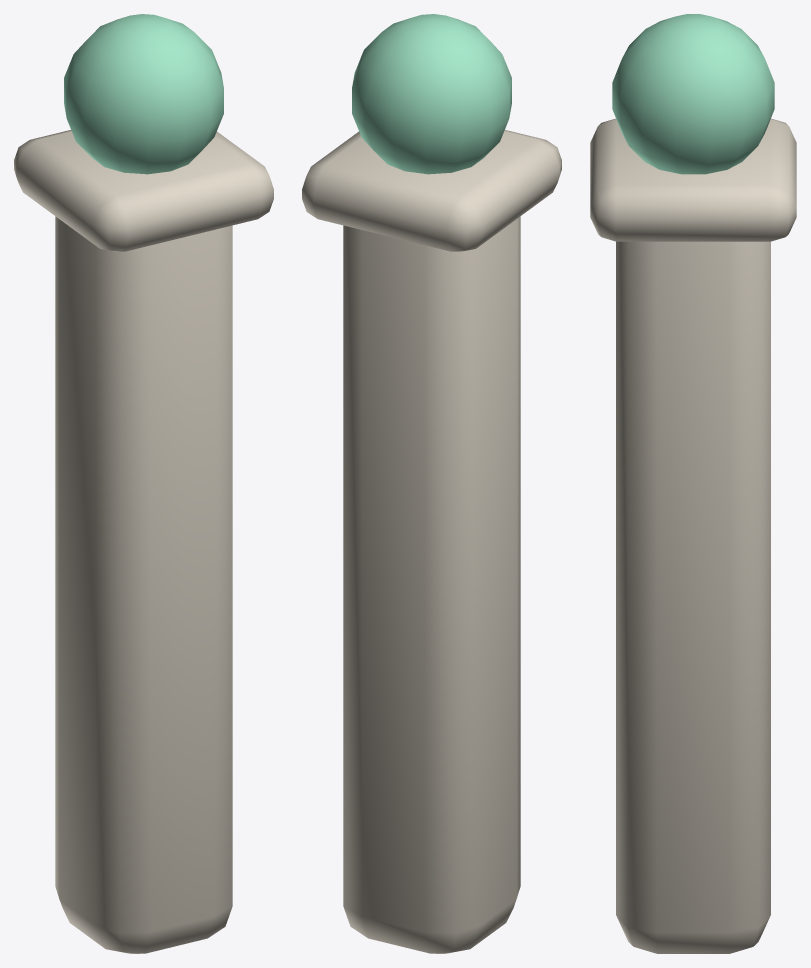
The model's file is prop_fence_post.glb.
3 views of the same model, side by side, from view 1: azimuth 30°, elevation 25°; view 2: azimuth 150°, elevation 25°; view 3: azimuth 270°, elevation 25° (orthographic).
Visible parts, largest first — view 1: prop_fence_post; view 2: prop_fence_post; view 3: prop_fence_post.
Boxes of the visible parts, bbox=[...] form: prop_fence_post: bbox=[14, 14, 273, 953]; prop_fence_post: bbox=[302, 14, 561, 953]; prop_fence_post: bbox=[590, 14, 796, 953].
Size of the model in its own units: 0.2 by 0.98 by 0.2.
